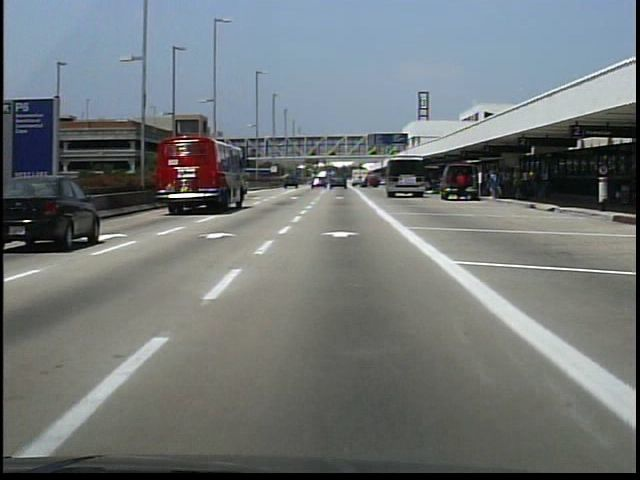person: (455, 167, 471, 204)
